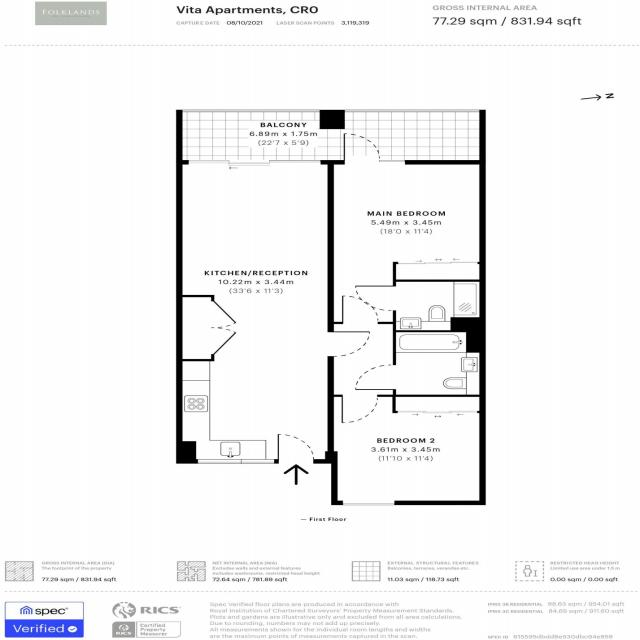DOOR: (340, 131, 386, 165), (274, 432, 317, 464), (338, 293, 382, 324), (327, 330, 371, 359), (340, 395, 381, 425), (354, 363, 396, 391)
ROOM: (176, 159, 374, 463), (327, 131, 486, 324), (324, 394, 486, 505)
SLIDING DOOR: (187, 160, 322, 166)
WINDOW: (197, 459, 275, 464)
